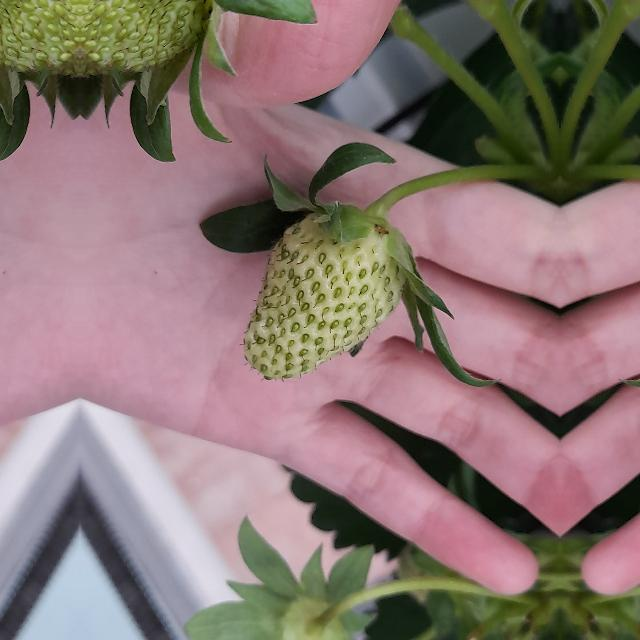Health_25: (242, 212, 406, 380)
